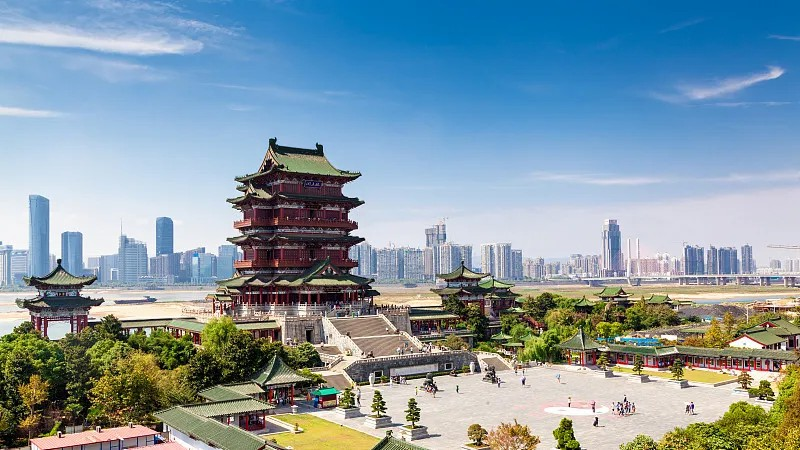Teng: (213, 137, 380, 307)
